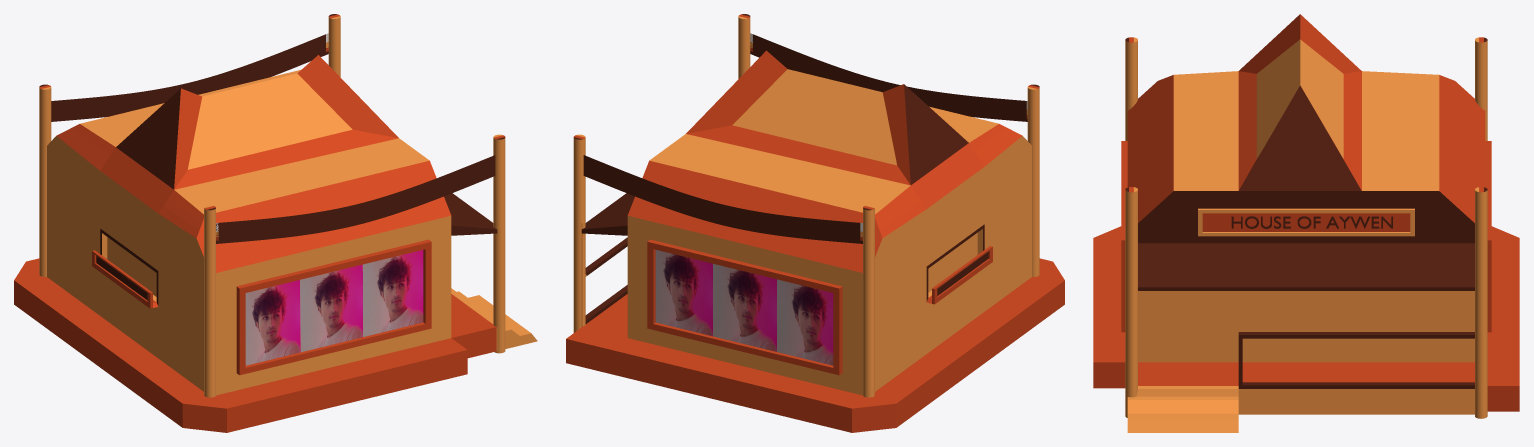
The model's file is Building .fbx.
3 views of the same model, side by side, from view 1: azimuth 30°, elevation 25°; view 2: azimuth 150°, elevation 25°; view 3: azimuth 270°, elevation 25° (orthographic). The views are drawn at different scales.
Visible parts, largest first — view 1: House_Level 1, Plane.001, Cube.002; view 2: House_Level 1, Plane.001, Cube.002; view 3: House_Level 1, Plane.001, Cube.001, Cube.002, Text.
Boxes of the visible parts, left/top/right/bottom form: House_Level 1: left=14, top=55, right=537, bottom=432; Plane.001: left=39, top=14, right=505, bottom=397; Cube.002: left=236, top=239, right=431, bottom=375; House_Level 1: left=566, top=50, right=1064, bottom=432; Plane.001: left=573, top=14, right=1039, bottom=397; Cube.002: left=647, top=239, right=842, bottom=375; House_Level 1: left=1093, top=14, right=1519, bottom=432; Plane.001: left=1125, top=37, right=1487, bottom=418; Cube.001: left=1198, top=208, right=1414, bottom=236; Cube.002: left=1121, top=141, right=1491, bottom=332; Text: left=1231, top=216, right=1392, bottom=228.
Bounding box in the file's own units: 243 × 172 × 238.
